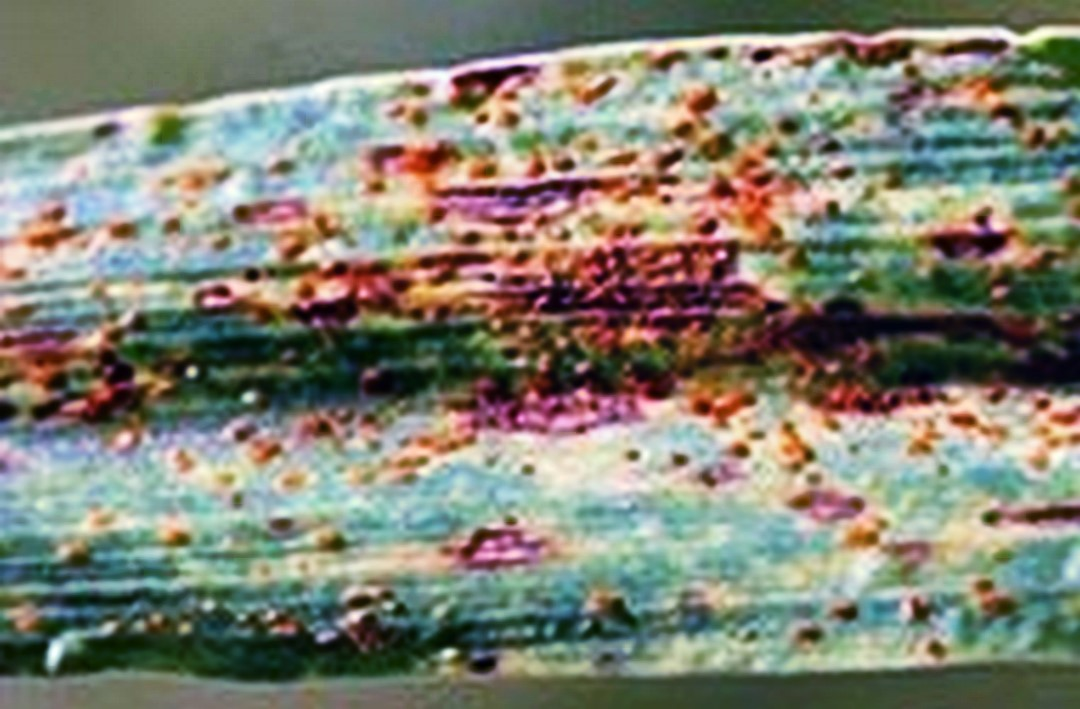Leaf Rust: (81, 23, 1002, 507)
